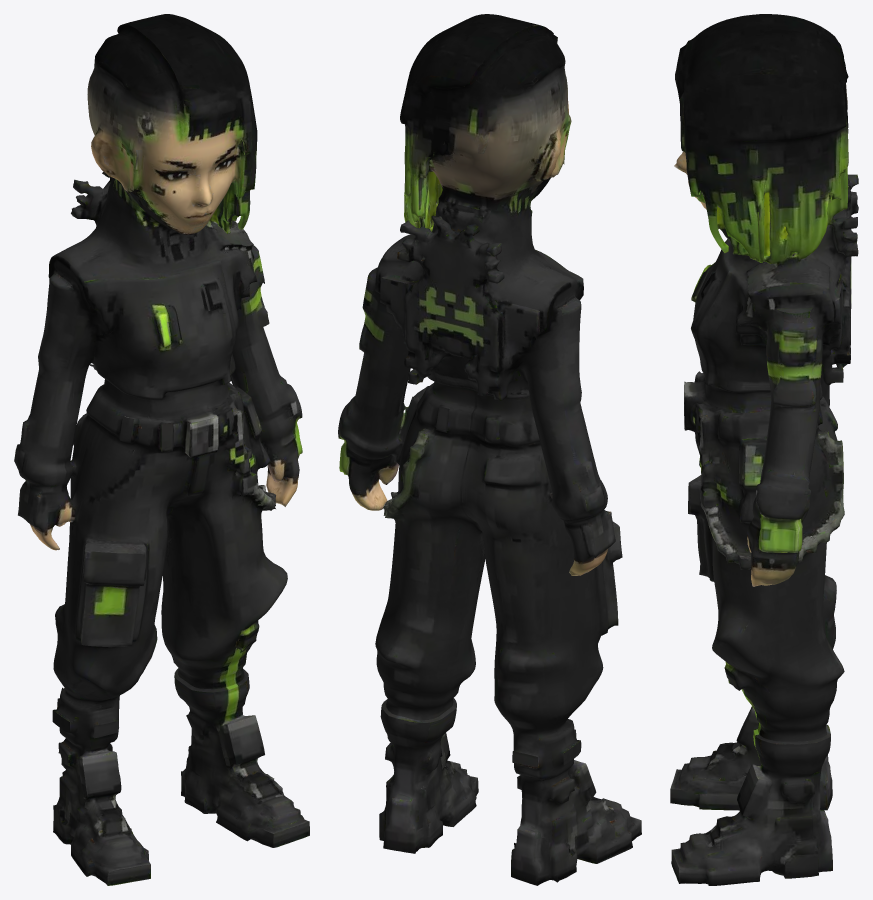
The model's file is maimed_green_female_ps15_v4.glb.
3 renders of one model, left to right at view 1: azimuth 30°, elevation 25°; view 2: azimuth 150°, elevation 25°; view 3: azimuth 270°, elevation 25°, orthographic.
Parts seen in each view (by area): view 1: Mesh_0; view 2: Mesh_0; view 3: Mesh_0.
Part boxes in pixels (box(x1,y1,x2,y2)): Mesh_0: box(14, 14, 309, 885); Mesh_0: box(338, 14, 641, 885); Mesh_0: box(670, 14, 858, 885).
Size of the model in its own units: 0.6634 by 1.91 by 0.4029.
1 material, 1 textured.
